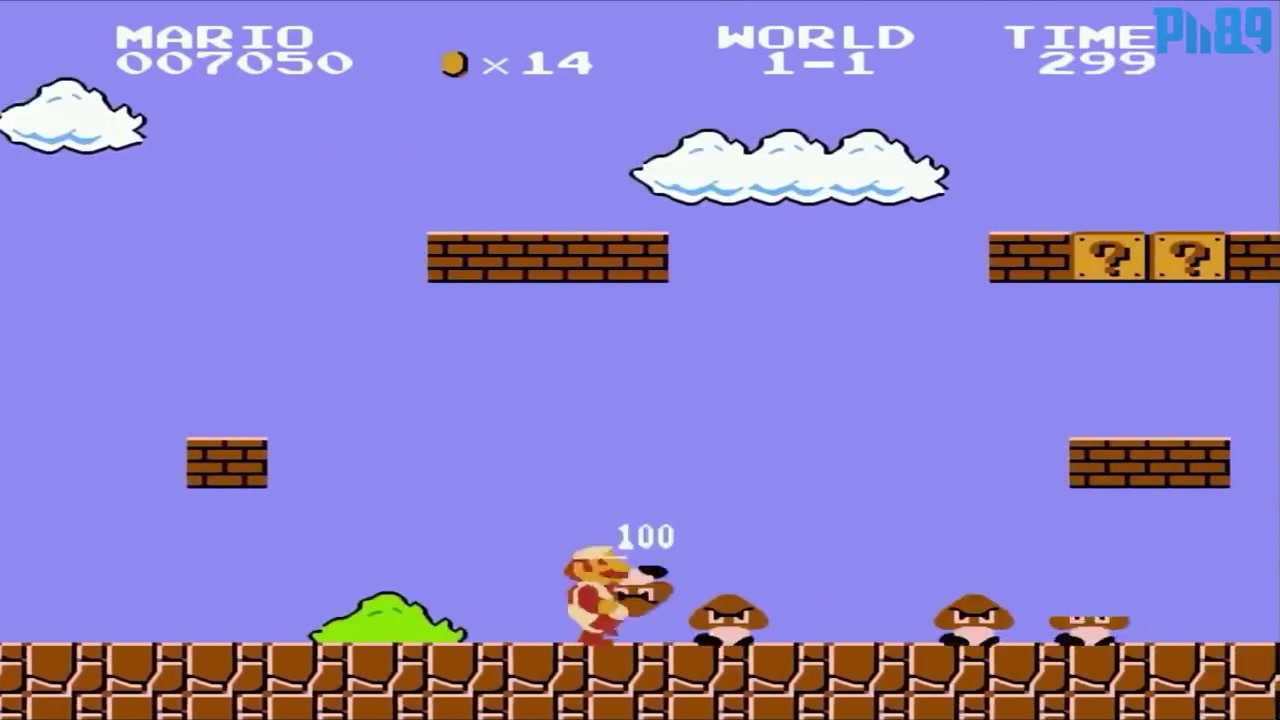mario: (555, 534, 638, 645)
